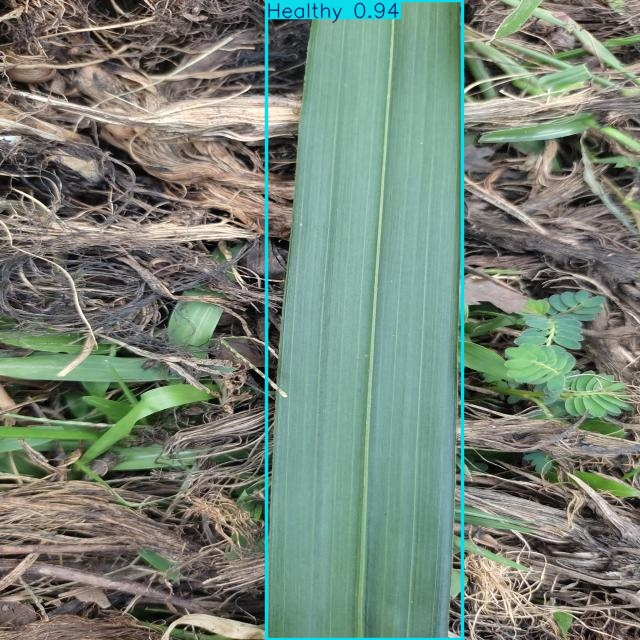Healthy: (266, 0, 462, 640)
